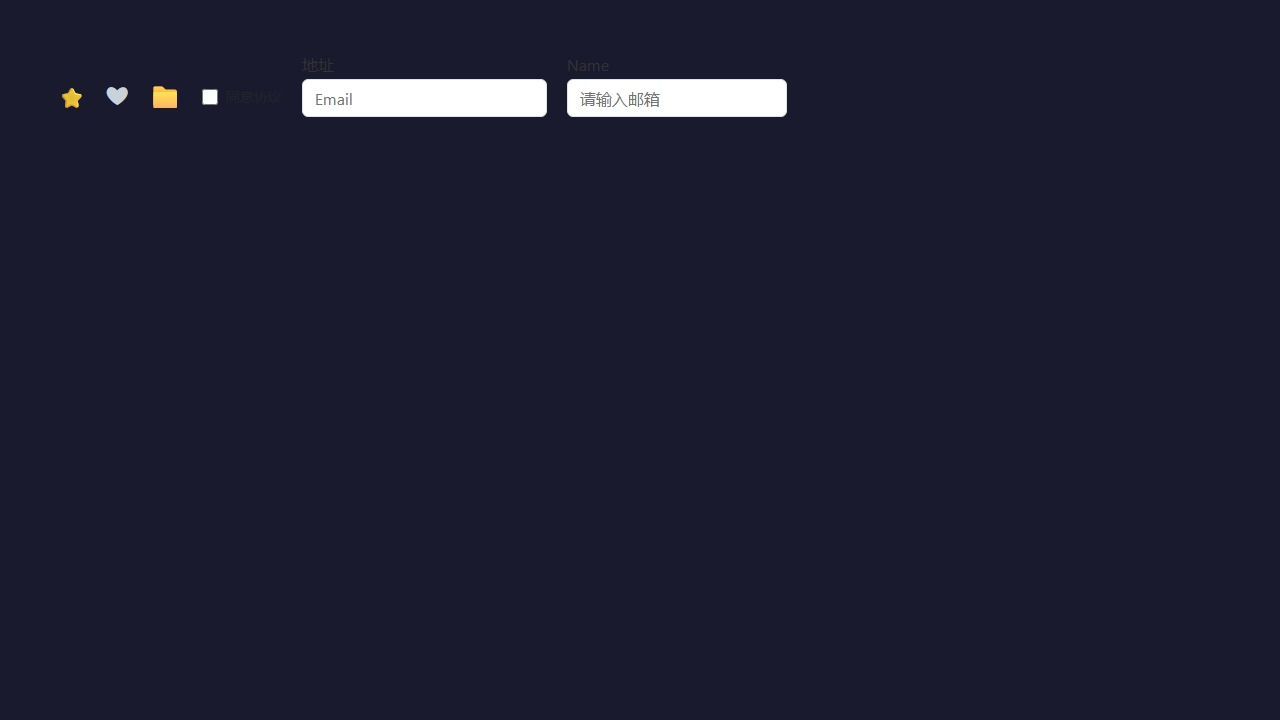checkbox: (202, 89, 218, 105)
icon: (226, 87, 282, 106), (149, 83, 182, 106), (105, 83, 129, 106), (58, 87, 85, 107)
input: (302, 79, 547, 117), (567, 79, 787, 117)
radio: (202, 87, 282, 106)
